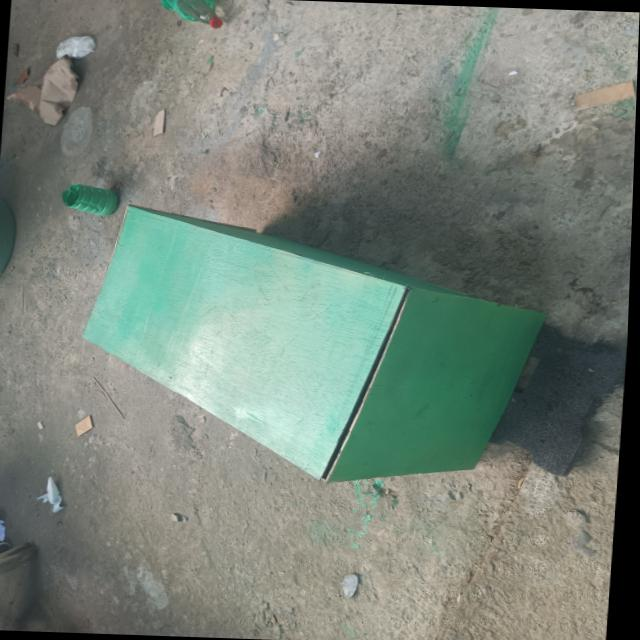green_box: (22, 194, 580, 496)
